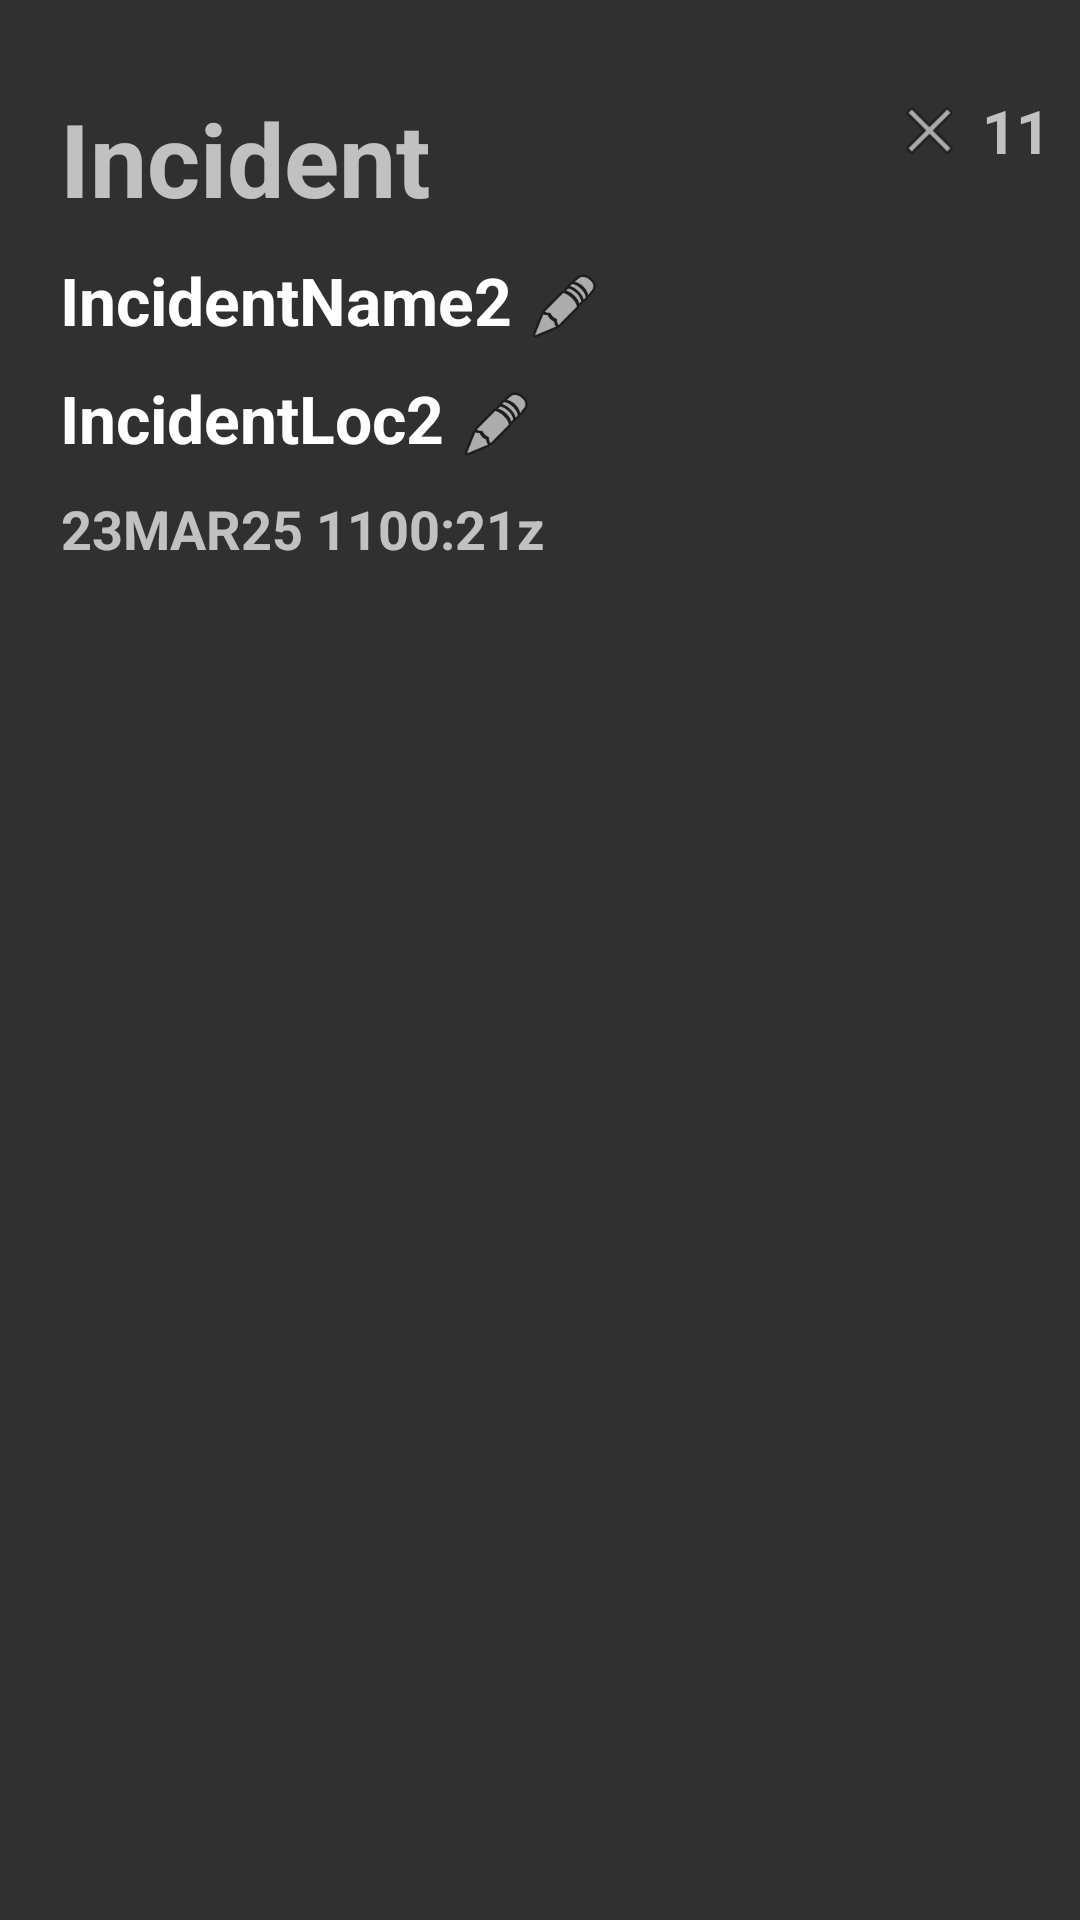

Named icons in this screenshot (1080x1920) and their bounding boxes, (x1, y1, x2, y2):
close clear cancel: (909, 110, 950, 151)
edit: (535, 277, 594, 335), (467, 395, 526, 453)
